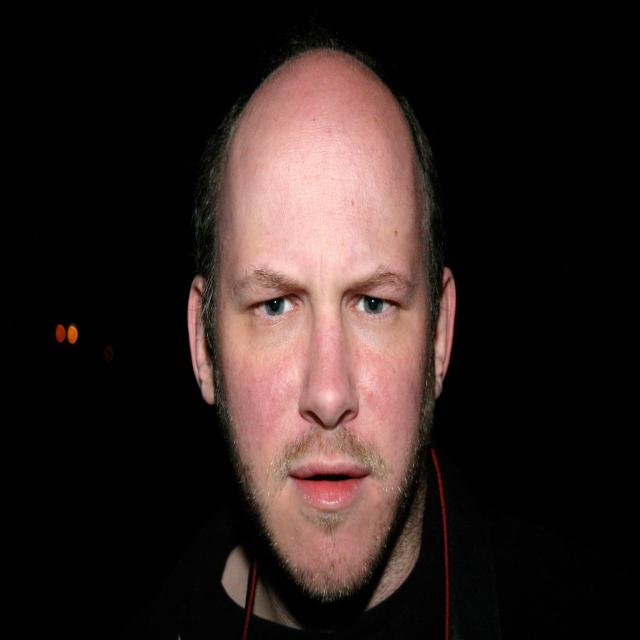no-glass: (247, 286, 412, 326)
